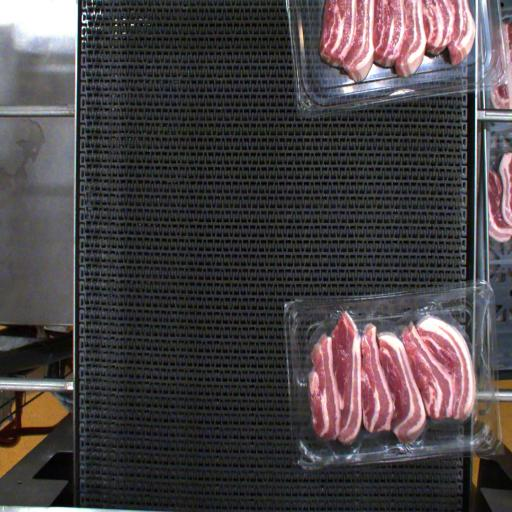unsealed: (283, 296, 492, 452)
